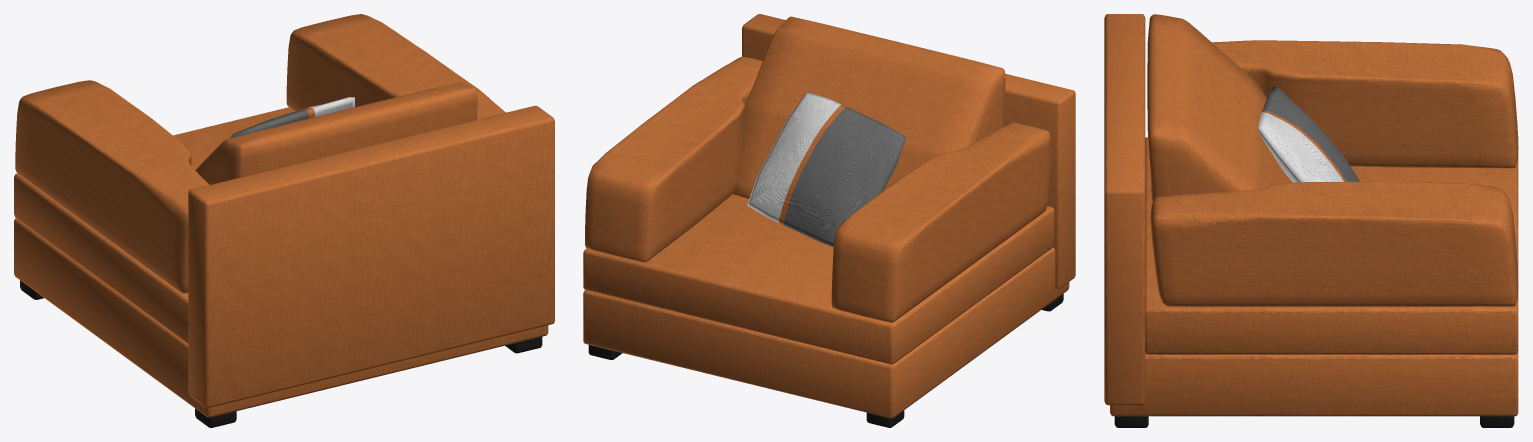
Rendered from sofa2.FBX.
3 views of the same model, side by side, from view 1: azimuth 30°, elevation 25°; view 2: azimuth 150°, elevation 25°; view 3: azimuth 270°, elevation 25° (orthographic). The views are drawn at different scales.
Parts seen in each view (by area): view 1: fauteuil, coussin3; view 2: fauteuil, coussin3; view 3: fauteuil, coussin3.
Part boxes in pixels (x1,y1,x2,y2): fauteuil: (14,14,554,427); coussin3: (230,97,354,138); fauteuil: (583,14,1075,427); coussin3: (747,91,906,246); fauteuil: (1104,14,1518,427); coussin3: (1258,86,1359,182).
Bounding box in the file's own units: 124 × 88.1 × 122.
